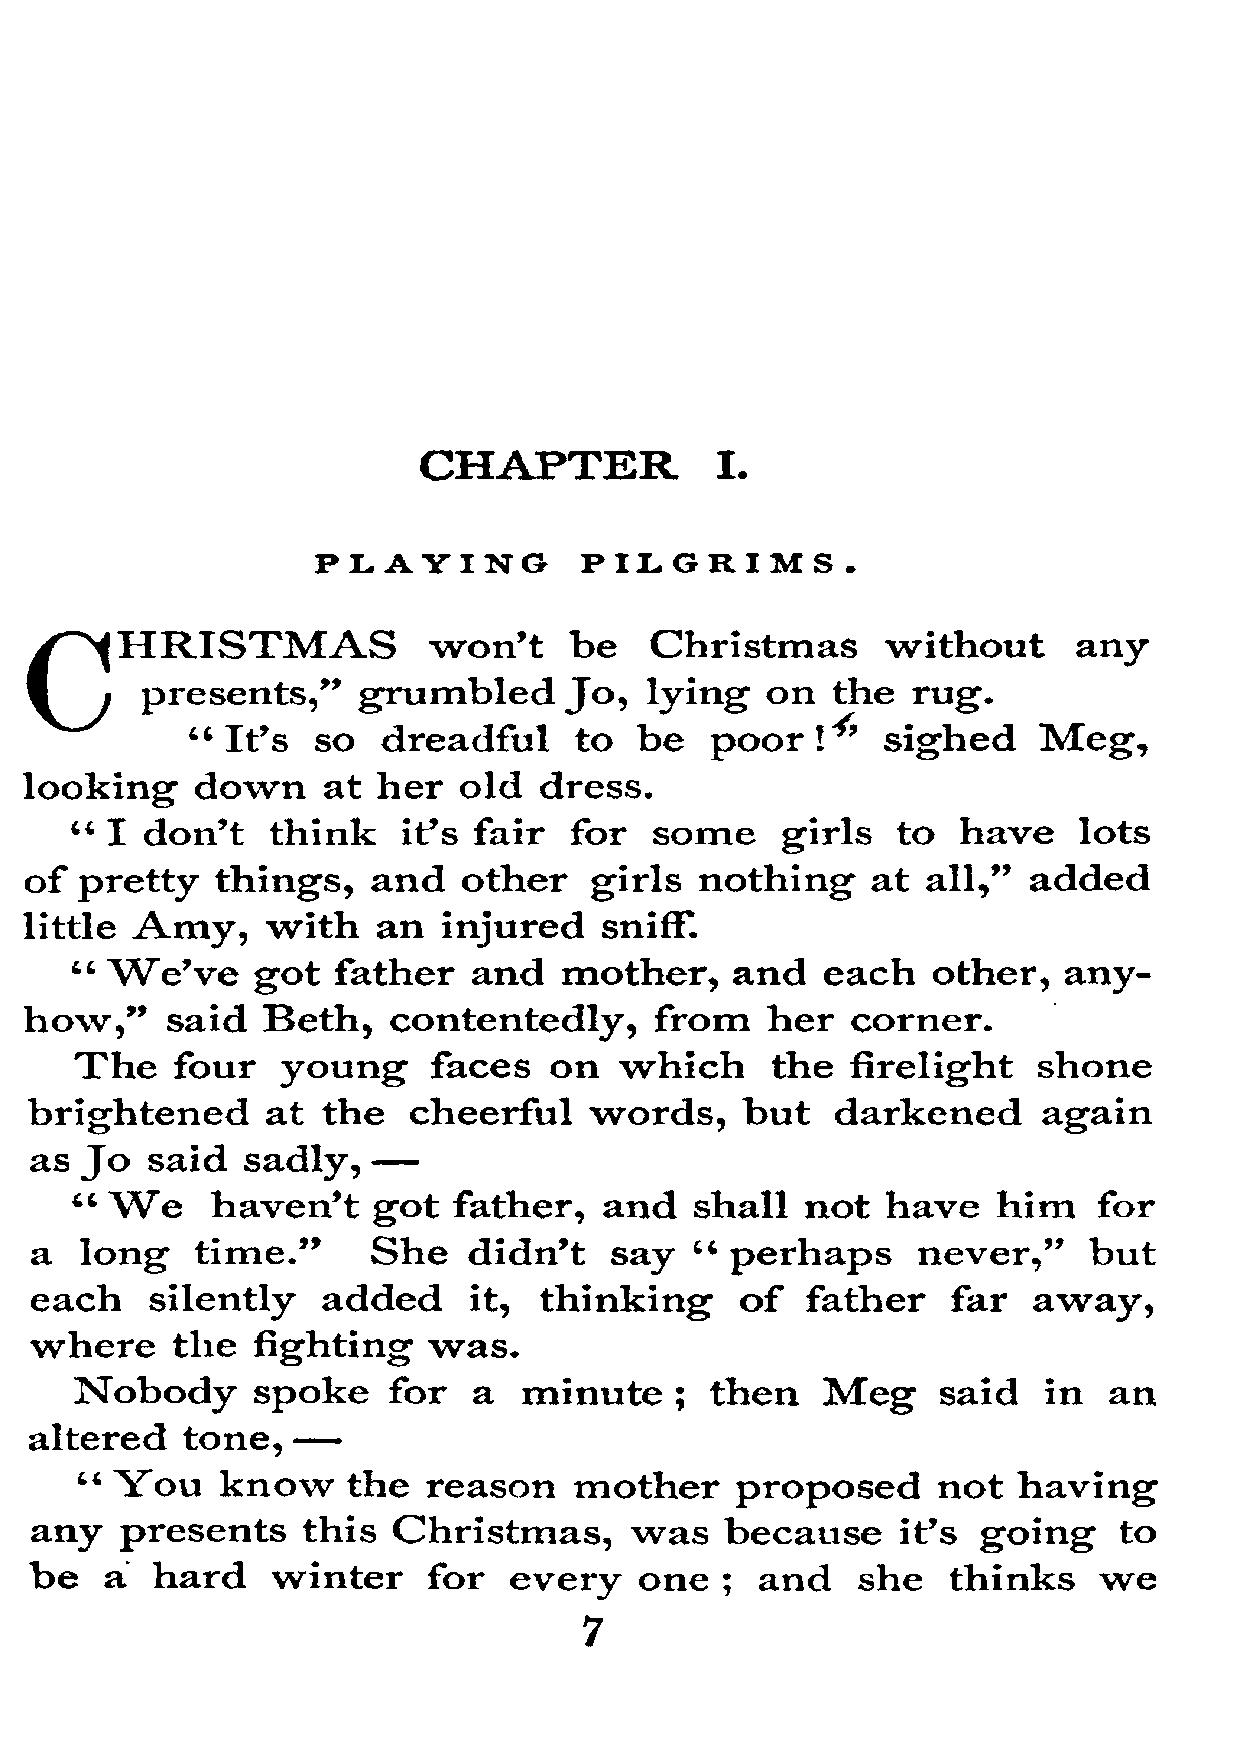chapter: (311, 448, 856, 576)
content: (19, 623, 1158, 1597)
content_pagenumber: (574, 1608, 608, 1651)
